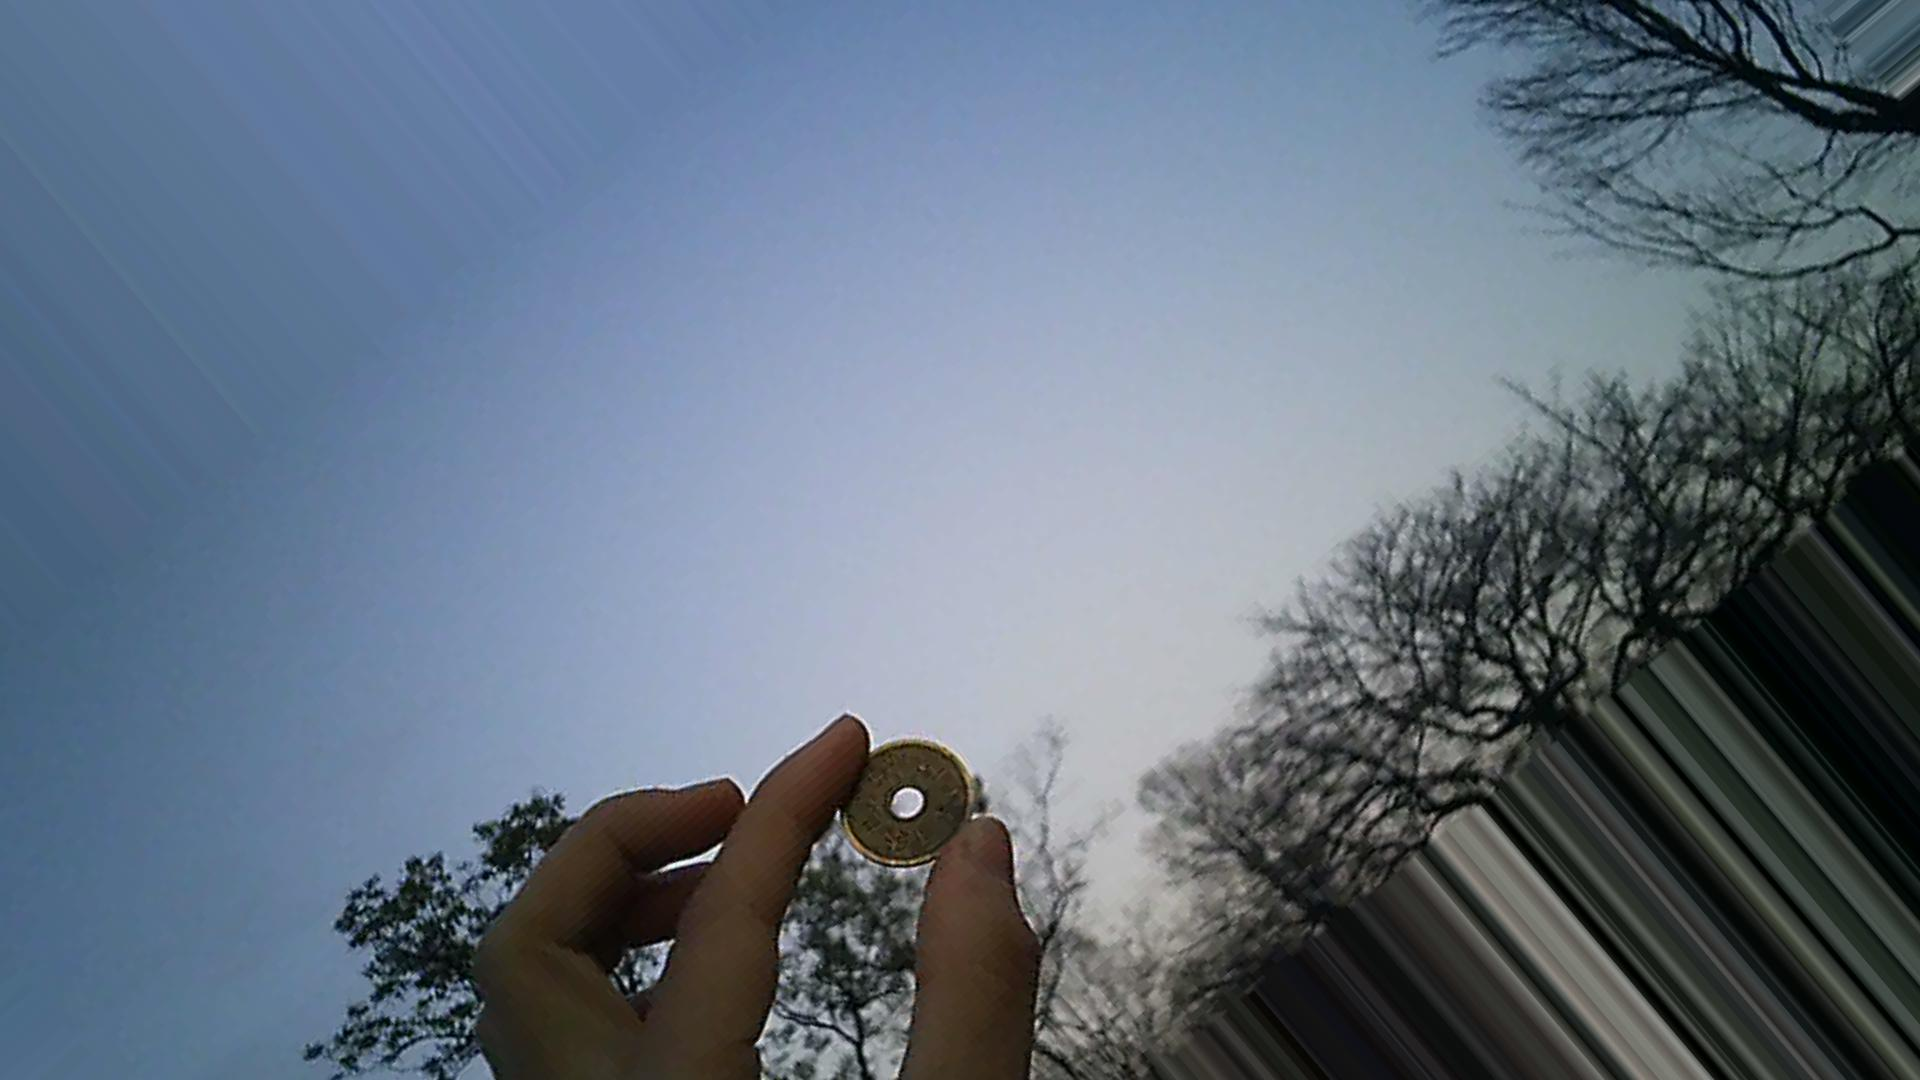5 Yen: (833, 733, 982, 872)
